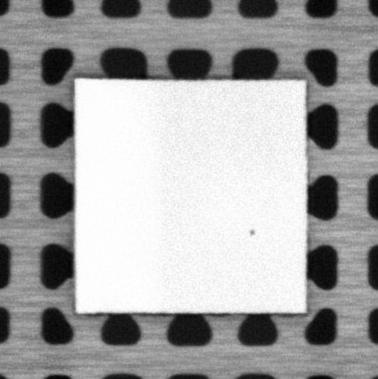DIE_INK: (248, 226, 257, 237)
